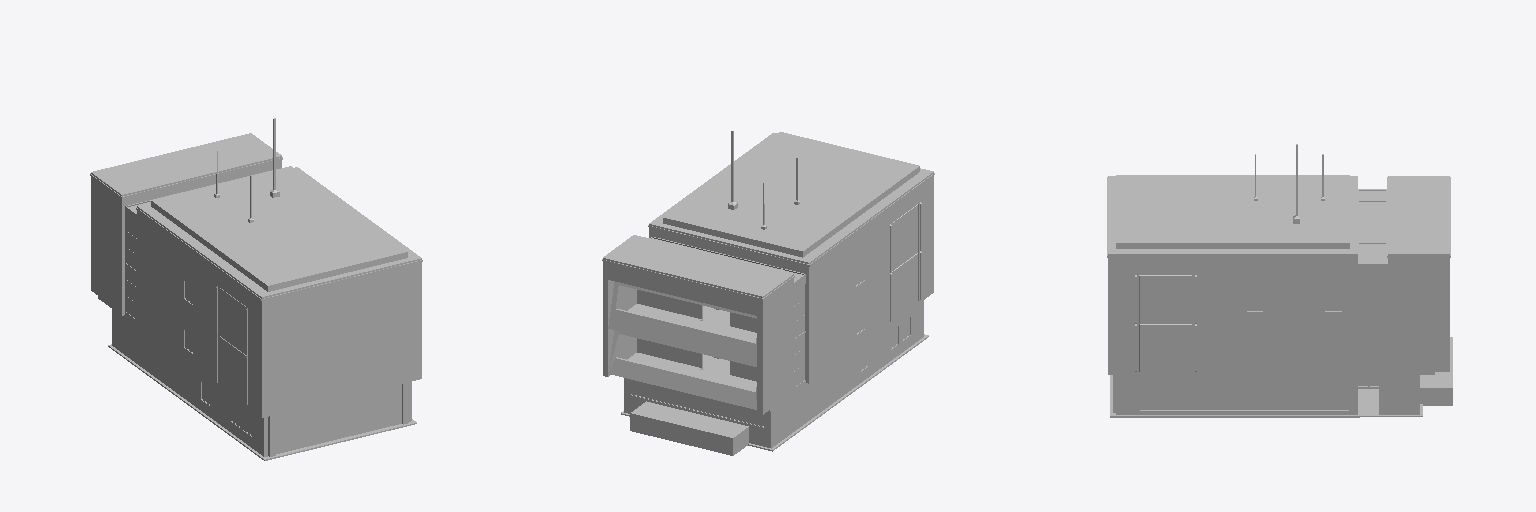
File: house1.obj
3 renders of one model, left to right at view 1: azimuth 30°, elevation 25°; view 2: azimuth 150°, elevation 25°; view 3: azimuth 270°, elevation 25°, orthographic.
Visible parts, largest first — view 1: Residential_Buildings_001_Cube.001_ground, Residential_Buildings_001_Cube.001_hotel_glas; view 2: Residential_Buildings_001_Cube.001_ground, Residential_Buildings_001_Cube.001_hotel_glas; view 3: Residential_Buildings_001_Cube.001_ground, Residential_Buildings_001_Cube.001_hotel_glas.
Boxes of the visible parts, box(x1,y1,x2,y2) form: Residential_Buildings_001_Cube.001_ground: box(90, 118, 422, 460); Residential_Buildings_001_Cube.001_hotel_glas: box(126, 202, 251, 434); Residential_Buildings_001_Cube.001_ground: box(602, 131, 934, 455); Residential_Buildings_001_Cube.001_hotel_glas: box(631, 204, 917, 426); Residential_Buildings_001_Cube.001_ground: box(1107, 144, 1452, 417); Residential_Buildings_001_Cube.001_hotel_glas: box(1139, 191, 1386, 409).
Bounding box in the file's own units: 12.59 × 18.39 × 23.1.